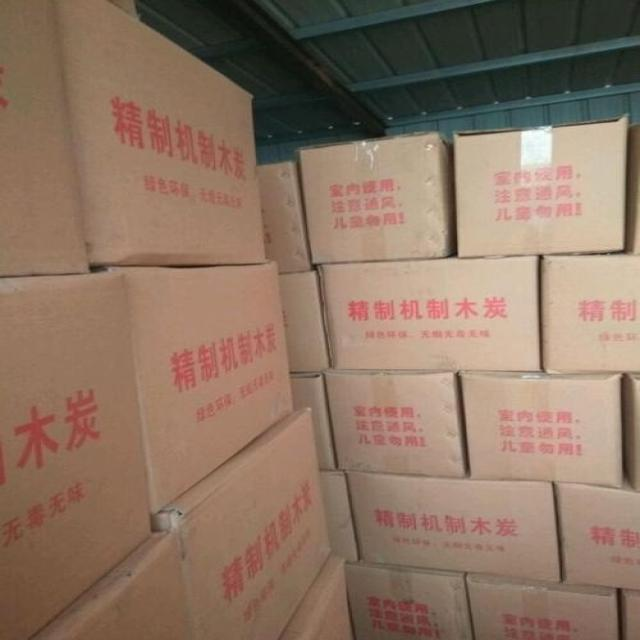box: (57, 0, 268, 266), (0, 274, 153, 639), (116, 262, 295, 515), (150, 404, 333, 639), (0, 0, 97, 280), (318, 258, 545, 370), (454, 117, 629, 256), (350, 471, 565, 583), (296, 132, 455, 264), (459, 371, 621, 486), (26, 532, 196, 639), (331, 370, 468, 475), (538, 255, 639, 374), (462, 570, 620, 637), (554, 468, 638, 590), (345, 561, 474, 639), (280, 555, 353, 639), (263, 161, 311, 272), (281, 270, 329, 374), (289, 373, 337, 471), (321, 470, 356, 558), (619, 374, 639, 490), (618, 591, 639, 638)
